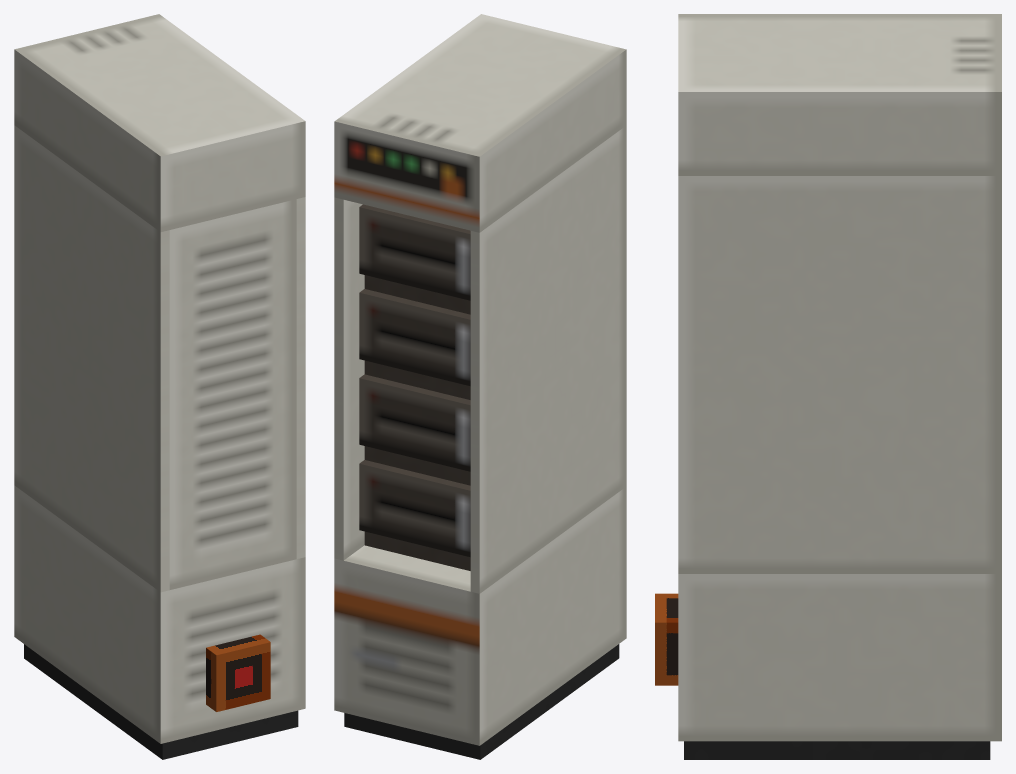
The model's file is era5_floppy_bank_double_sided.obj.
The picture shows the model from 3 angles, left to right: view 1: azimuth 30°, elevation 25°; view 2: azimuth 150°, elevation 25°; view 3: azimuth 270°, elevation 25°; orthographic projection. The views are drawn at different scales.
Visible parts, largest first — view 1: era5_floppy_bank; view 2: era5_floppy_bank; view 3: era5_floppy_bank.
Boxes of the visible parts, <box> form: era5_floppy_bank: <box>14,14,305,759</box>; era5_floppy_bank: <box>334,14,626,759</box>; era5_floppy_bank: <box>655,14,1001,759</box>.
Size of the model in its own units: 1 by 4 by 1.88.
